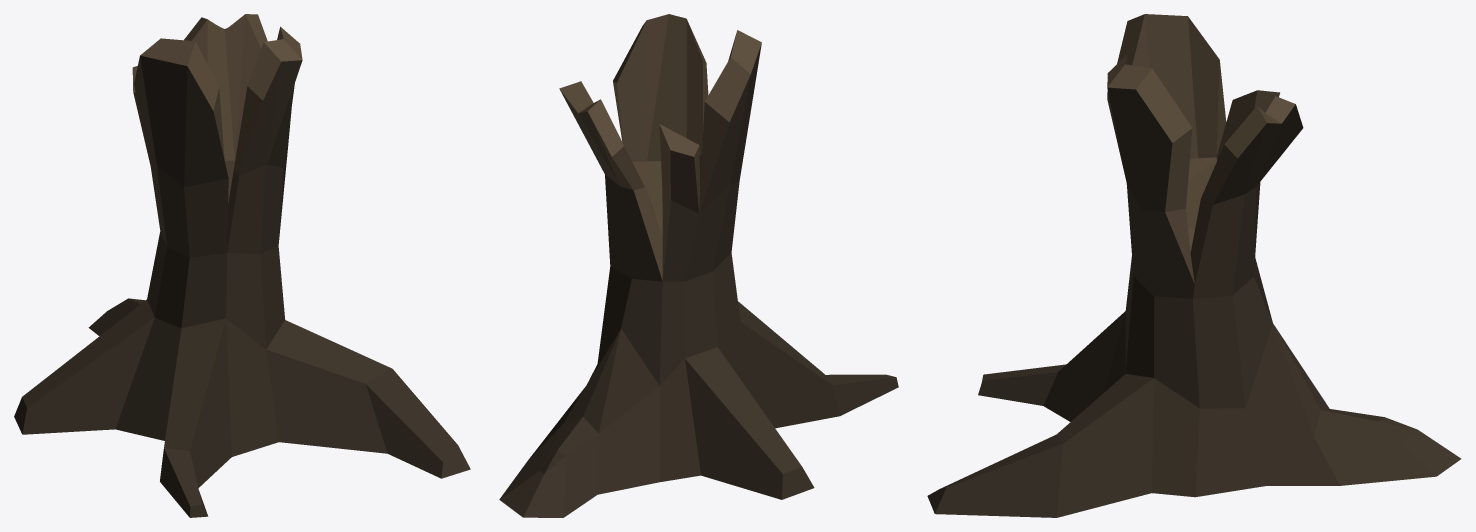
File: synty-tree-stump-02.gltf
3 renders of one model, left to right at view 1: azimuth 30°, elevation 25°; view 2: azimuth 150°, elevation 25°; view 3: azimuth 270°, elevation 25°, orthographic. The views are drawn at different scales.
Parts seen in each view (by area): view 1: SM_Tree_Stump_02; view 2: SM_Tree_Stump_02; view 3: SM_Tree_Stump_02.
Boxes of the visible parts, x1,y1,x2,y2 form: SM_Tree_Stump_02: (14,14,470,517); SM_Tree_Stump_02: (499,14,898,517); SM_Tree_Stump_02: (927,14,1461,517).
Bounding box in the file's own units: 1.9 × 2.36 × 2.75.
Materials: 1 (1 with a texture image).
